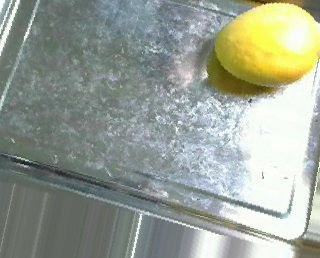Mango: (208, 4, 320, 89)
